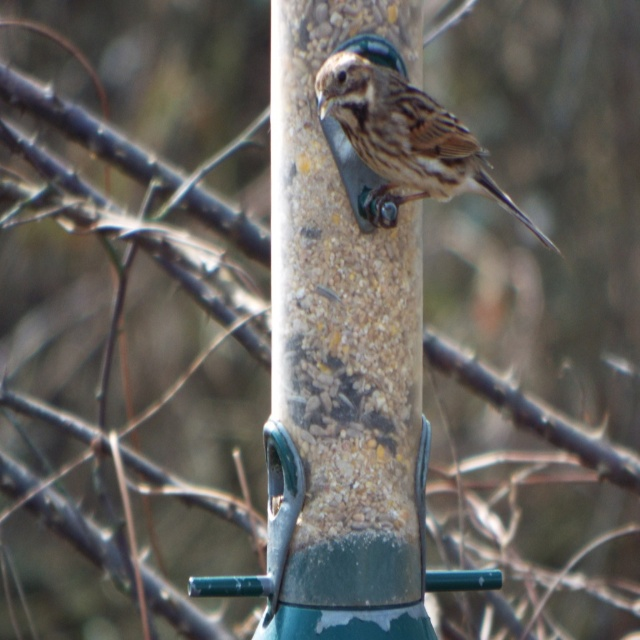Sparrow: (313, 51, 562, 255)
